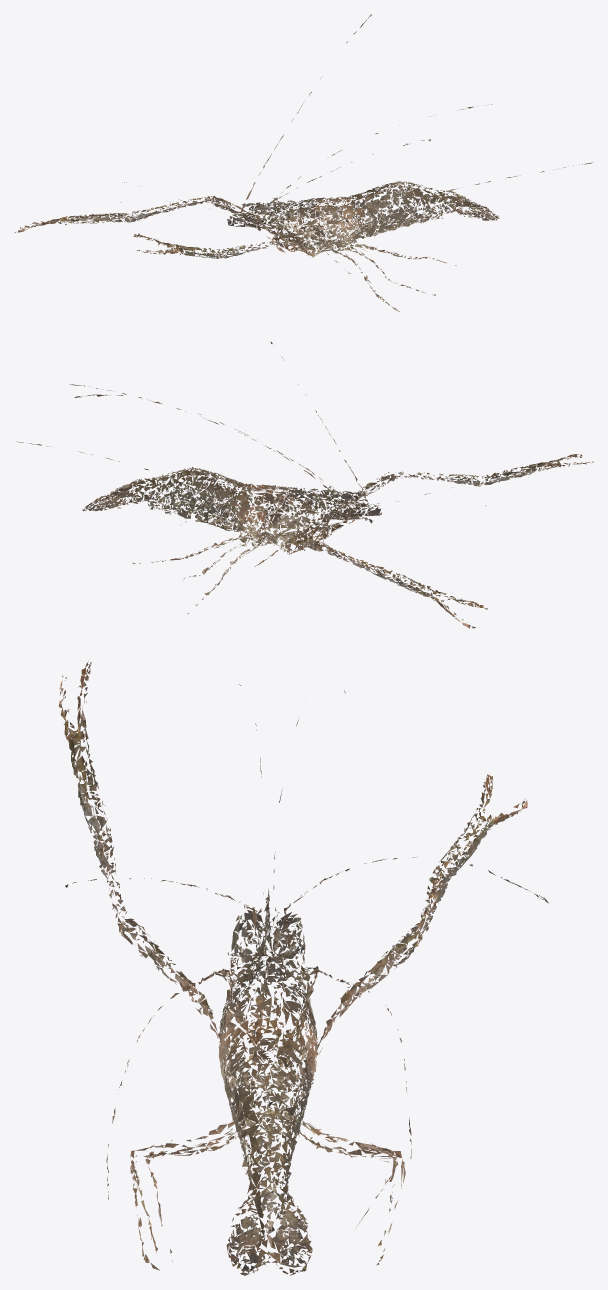
Rendered from prawn.glb.
3 renders of one model, top to bottom at view 1: azimuth 30°, elevation 25°; view 2: azimuth 150°, elevation 25°; view 3: azimuth 270°, elevation 25°, orthographic. The views are drawn at different scales.
Visible parts, largest first — view 1: Q11927-1all-1_5; view 2: Q11927-1all-1_5; view 3: Q11927-1all-1_5.
Part boxes in pixels (bbox=[...]): Q11927-1all-1_5: bbox=[15, 14, 592, 311]; Q11927-1all-1_5: bbox=[16, 341, 593, 628]; Q11927-1all-1_5: bbox=[58, 661, 548, 1275].
Bounding box in the file's own units: 10.86 × 4.64 × 4.82.
Materials: 1 (1 with a texture image).
